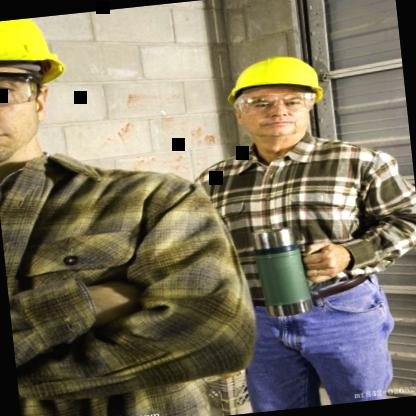helmet: (213, 40, 343, 164), (0, 14, 73, 160)
